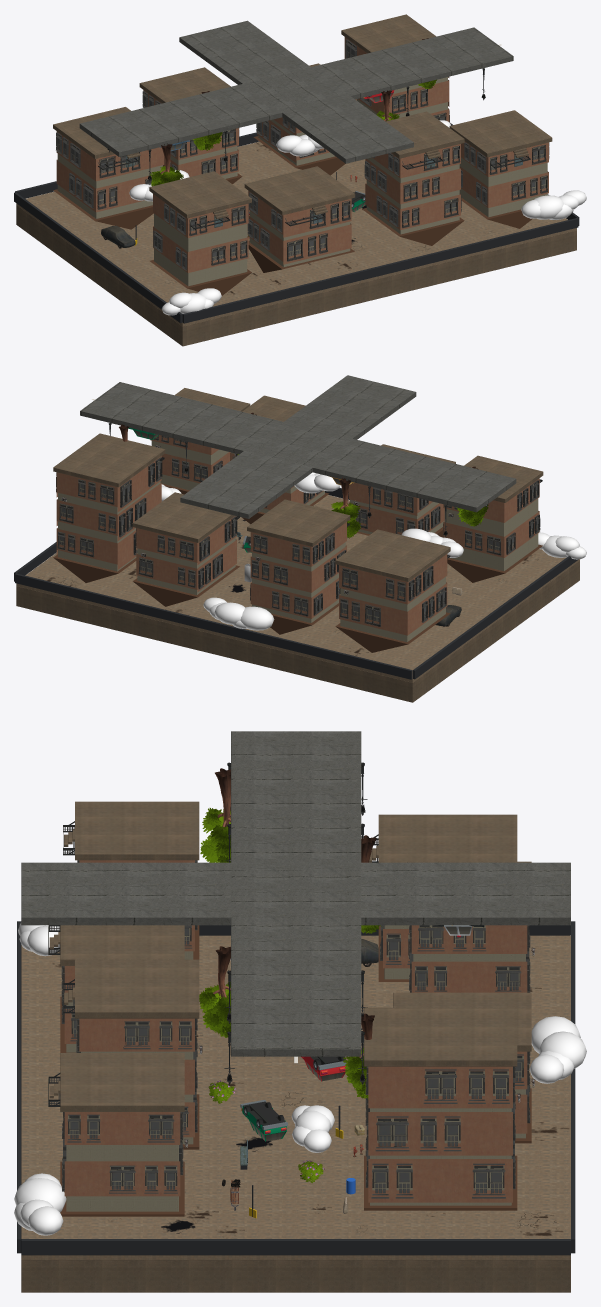
The model's file is kota.glb.
3 renders of one model, top to bottom at view 1: azimuth 30°, elevation 25°; view 2: azimuth 150°, elevation 25°; view 3: azimuth 270°, elevation 25°, orthographic. The views are drawn at different scales.
Visible parts, largest first — view 1: statis, CommonTree_1.003; view 2: statis, CommonTree_1; view 3: statis, CommonTree_1.003, CommonTree_1.001, CommonTree_1.002.
Boxes of the visible parts, bbox=[...] form: statis: bbox=[14, 14, 586, 346]; CommonTree_1.003: bbox=[149, 143, 183, 186]; statis: bbox=[14, 375, 586, 702]; CommonTree_1: bbox=[331, 477, 360, 538]; statis: bbox=[14, 731, 586, 1292]; CommonTree_1.003: bbox=[200, 768, 230, 862]; CommonTree_1.001: bbox=[199, 946, 230, 1037]; CommonTree_1.002: bbox=[343, 1013, 374, 1099].
Size of the model in its own units: 55.83 by 18.6 by 39.63.
Materials: 65 (58 with a texture image).
